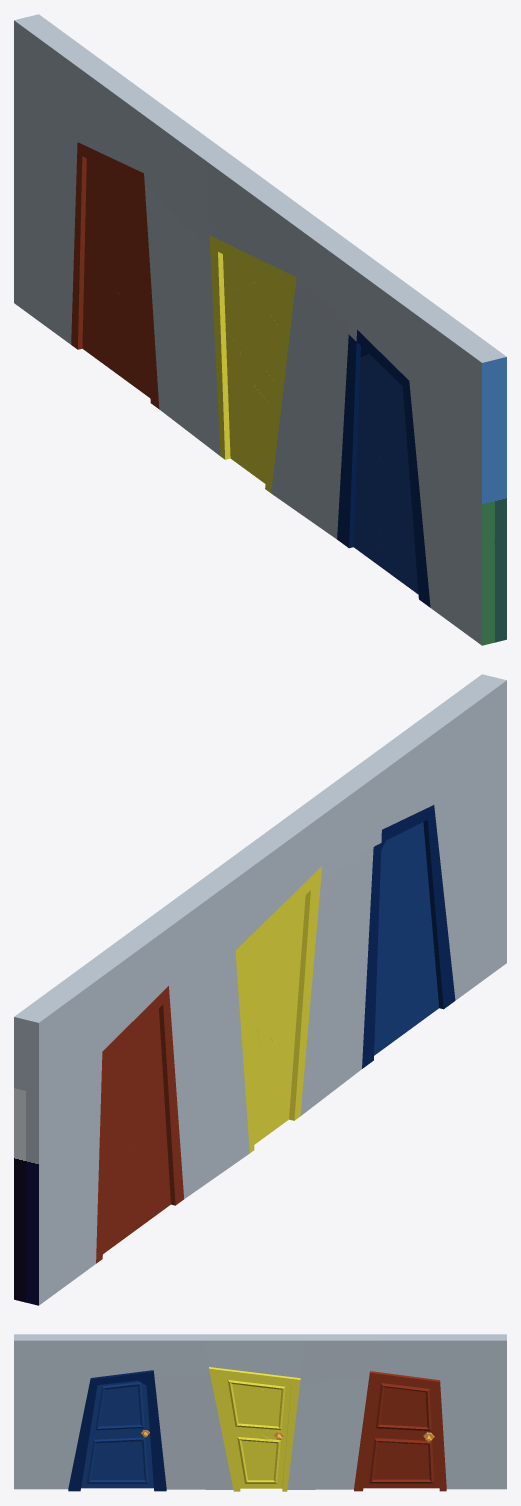
Rendered from Portes.fbx.
3 renders of one model, top to bottom at view 1: azimuth 30°, elevation 25°; view 2: azimuth 150°, elevation 25°; view 3: azimuth 270°, elevation 25°, orthographic. The views are drawn at different scales.
Visible parts, largest first — view 1: Mur, Porte_Milieu_cell.002, Porte_Gauche_cell.010, Porte_Gauche_cell.015, Porte_Milieu_cell.005, Porte_Milieu_cell.006, Porte_Droite_cell.003, Porte_Gauche_cell.014, Porte_Droite_cell.007, Porte_Droite_cell.008, Porte_Gauche_cell.018, Porte_Droite_cell.004 (+11 smaller); view 2: Mur, Porte_Milieu_cell.002, Porte_Droite_cell.003, Porte_Gauche_cell.015, Porte_Milieu_cell.005, Porte_Gauche_cell.010, Porte_Milieu_cell.006, Porte_Droite_cell, Porte_Gauche_cell.014, Porte_Gauche_cell.018, Porte_Milieu_cell.001, Porte_Droite_cell.007 (+10 smaller); view 3: Mur, Porte_Milieu_cell.002, Porte_Droite_cell.003, Porte_Gauche_cell.015, Porte_Milieu_cell.005, Porte_Gauche_cell.010, Porte_Milieu_cell.006, Porte_Gauche_cell.014, Porte_Droite_cell.007, Porte_Droite_cell, Porte_Droite_cell.008, Porte_Milieu_cell.001 (+24 smaller).
Part boxes in pixels (left/top/right/bottom): Mur: left=14, top=14, right=506, bottom=645; Porte_Milieu_cell.002: left=229, top=388, right=272, bottom=482; Porte_Gauche_cell.010: left=358, top=354, right=386, bottom=423; Porte_Gauche_cell.015: left=380, top=501, right=415, bottom=570; Porte_Milieu_cell.005: left=249, top=301, right=280, bottom=381; Porte_Milieu_cell.006: left=224, top=283, right=262, bottom=334; Porte_Droite_cell.003: left=131, top=286, right=150, bottom=397; Porte_Gauche_cell.014: left=353, top=487, right=384, bottom=569; Porte_Droite_cell.007: left=85, top=158, right=108, bottom=231; Porte_Droite_cell.008: left=84, top=231, right=113, bottom=291; Porte_Gauche_cell.018: left=366, top=472, right=401, bottom=531; Porte_Droite_cell.004: left=83, top=300, right=137, bottom=386; Mur: left=14, top=674, right=506, bottom=1305; Porte_Milieu_cell.002: left=252, top=1036, right=294, bottom=1144; Porte_Droite_cell.003: left=146, top=1093, right=170, bottom=1216; Porte_Gauche_cell.015: left=395, top=921, right=435, bottom=1035; Porte_Milieu_cell.005: left=266, top=946, right=301, bottom=1014; Porte_Gauche_cell.010: left=378, top=834, right=402, bottom=920; Porte_Milieu_cell.006: left=245, top=939, right=278, bottom=1024; Porte_Droite_cell: left=122, top=1043, right=162, bottom=1086; Porte_Gauche_cell.014: left=374, top=996, right=400, bottom=1055; Porte_Gauche_cell.018: left=382, top=946, right=417, bottom=1005; Porte_Milieu_cell.001: left=270, top=895, right=305, bottom=947; Porte_Droite_cell.007: left=105, top=1045, right=124, bottom=1128; Mur: left=14, top=1334, right=506, bottom=1491; Porte_Milieu_cell.002: left=233, top=1442, right=283, bottom=1488; Porte_Droite_cell.003: left=363, top=1427, right=388, bottom=1488; Porte_Gauche_cell.015: left=85, top=1439, right=126, bottom=1488; Porte_Milieu_cell.005: left=226, top=1393, right=263, bottom=1432; Porte_Gauche_cell.010: left=119, top=1380, right=148, bottom=1420; Porte_Milieu_cell.006: left=249, top=1387, right=289, bottom=1423; Porte_Gauche_cell.014: left=121, top=1455, right=153, bottom=1488; Porte_Droite_cell.007: left=412, top=1385, right=436, bottom=1424; Porte_Droite_cell: left=372, top=1391, right=413, bottom=1413; Porte_Droite_cell.008: left=407, top=1424, right=437, bottom=1453; Porte_Milieu_cell.001: left=221, top=1377, right=258, bottom=1402.
Bounding box in the file's own units: 28.74 × 200 × 600.
